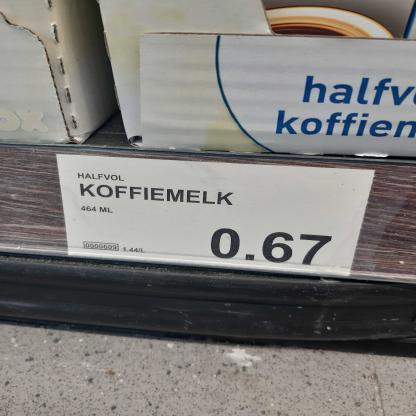prtg: (56, 155, 377, 278)
